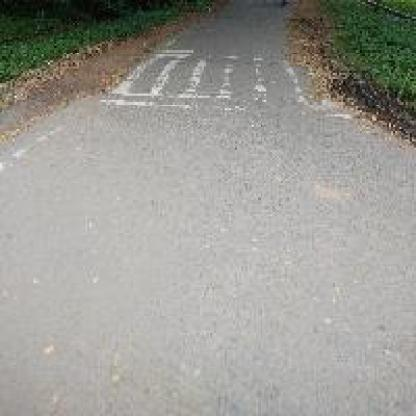Speed Bump: (96, 46, 350, 121)
